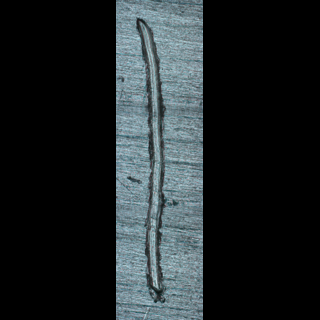d: (133, 16, 173, 306)
